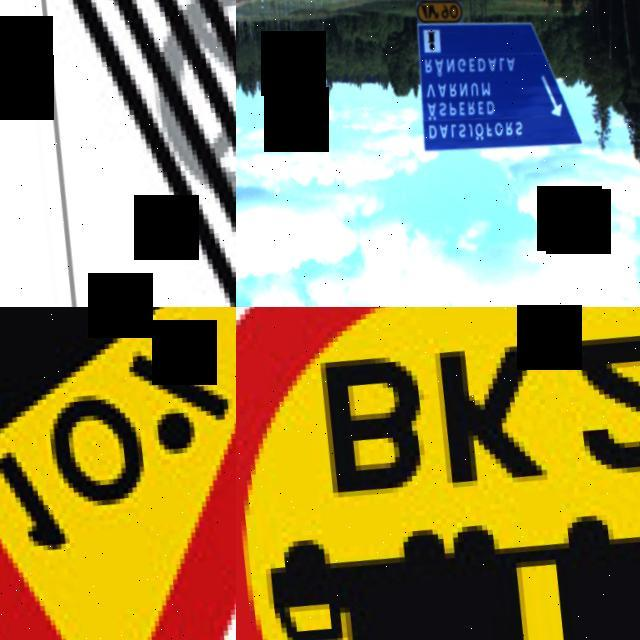115: (20, 0, 236, 307)
125: (412, 0, 465, 26)
15: (236, 307, 640, 640)
3: (408, 3, 588, 159)
Steep downhill: (0, 307, 236, 640)
